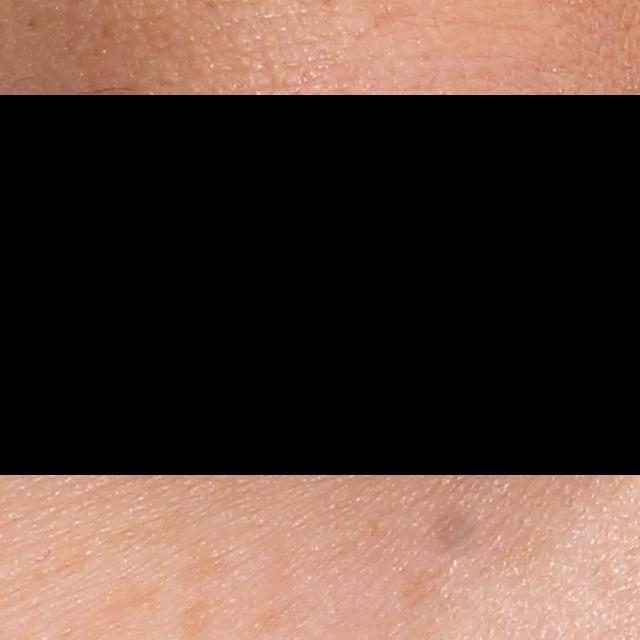melasma: (178, 537, 250, 591), (399, 564, 453, 632)
